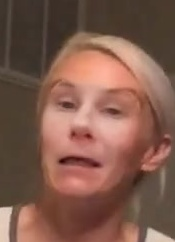eb_f: (47, 75, 145, 124)
